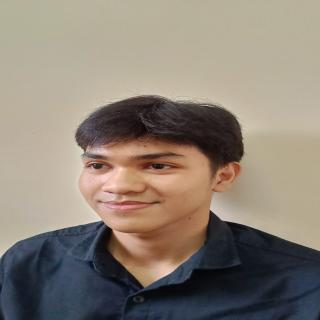Senang: (64, 124, 220, 237)
